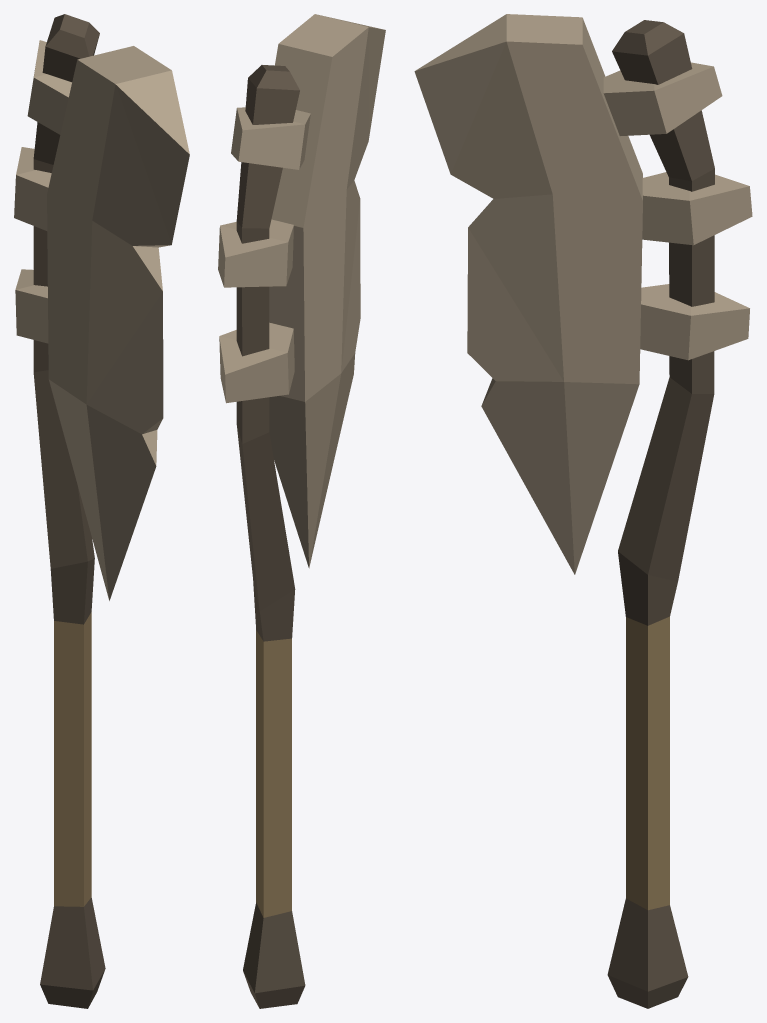
Rendered from Prop_BoneAxe_01.glb.
3 renders of one model, left to right at view 1: azimuth 30°, elevation 25°; view 2: azimuth 150°, elevation 25°; view 3: azimuth 270°, elevation 25°, orthographic. The views are drawn at different scales.
Parts seen in each view (by area): view 1: Prop_BoneAxe_01; view 2: Prop_BoneAxe_01; view 3: Prop_BoneAxe_01.
Part boxes in pixels (x1,y1,x2,y2): Prop_BoneAxe_01: (14, 14, 189, 1008); Prop_BoneAxe_01: (218, 14, 385, 1008); Prop_BoneAxe_01: (414, 14, 752, 1008).
Bounding box in the file's own units: 0.1548 × 2.02 × 0.635.
Materials: 1 (1 with a texture image).
